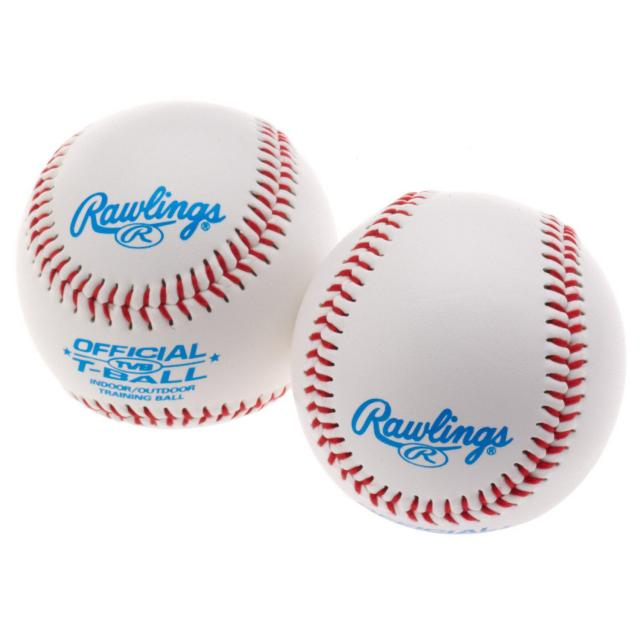baseball: (287, 180, 622, 534), (14, 95, 332, 429)
